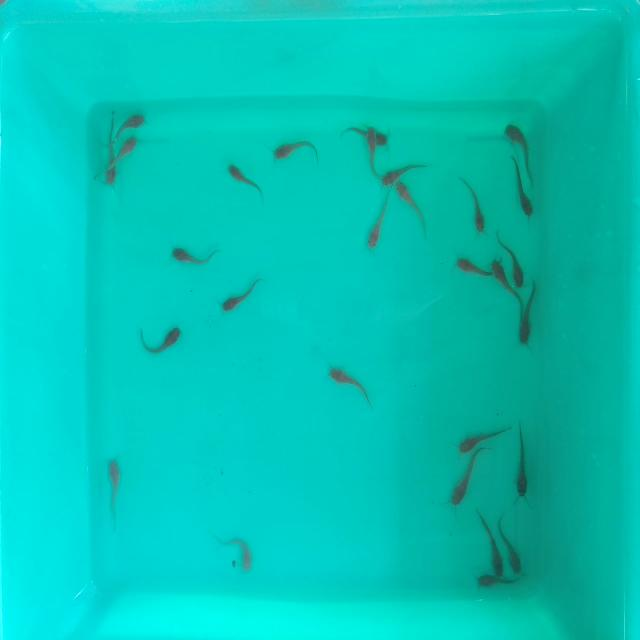lele: (475, 511, 509, 572), (222, 276, 269, 317), (456, 177, 488, 236), (449, 457, 483, 509), (227, 162, 269, 204), (510, 157, 539, 217), (497, 513, 526, 573), (397, 182, 428, 236), (505, 222, 530, 286), (328, 367, 371, 404), (142, 324, 185, 357), (459, 426, 511, 452), (273, 134, 318, 160), (520, 284, 539, 345), (172, 247, 222, 270), (366, 198, 388, 250), (114, 110, 152, 140), (381, 163, 427, 186), (515, 423, 529, 498), (342, 124, 388, 146), (452, 254, 494, 278), (491, 256, 512, 304), (232, 534, 258, 572), (103, 112, 116, 188), (108, 459, 122, 529), (506, 122, 536, 154), (478, 574, 524, 593), (117, 135, 139, 163), (366, 127, 378, 177)
